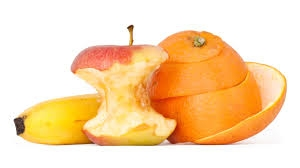kitchen_waste: (153, 28, 288, 149), (68, 19, 184, 155), (7, 88, 130, 150)
